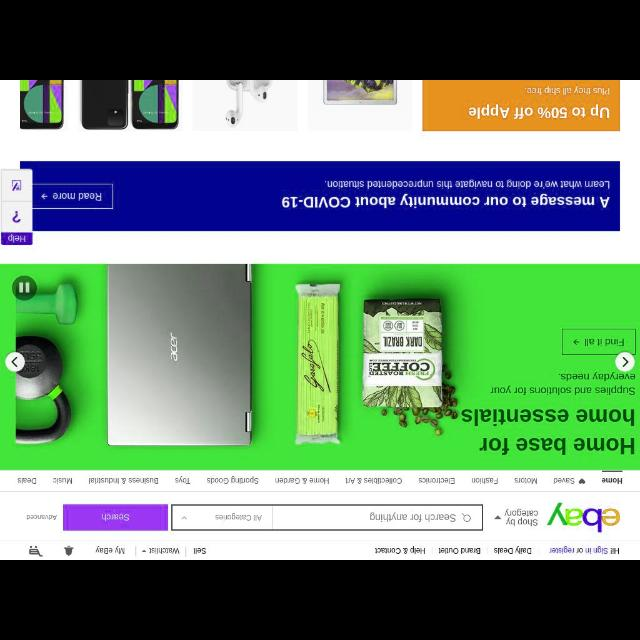backgroundimage: (1, 266, 639, 470)
button: (1, 170, 32, 202), (1, 202, 31, 232), (12, 274, 38, 302), (5, 351, 28, 373), (614, 352, 636, 372)
icon: (24, 542, 46, 558), (10, 208, 24, 225), (62, 544, 76, 558), (10, 178, 24, 192), (458, 512, 474, 524), (20, 280, 30, 294), (620, 355, 630, 369), (12, 356, 21, 368), (40, 190, 48, 202), (578, 476, 586, 486), (492, 514, 503, 520), (180, 515, 188, 521), (141, 548, 147, 554)
image: (306, 80, 409, 132), (78, 81, 184, 130), (194, 82, 296, 130), (547, 500, 621, 534), (20, 81, 68, 131)
input: (272, 504, 482, 530)
multitab: (1, 471, 639, 492)
spinner: (172, 505, 272, 529), (492, 506, 540, 530), (136, 542, 186, 558)
text: (280, 175, 610, 212), (462, 407, 636, 458), (488, 372, 636, 398), (465, 103, 613, 121), (367, 511, 459, 524), (548, 545, 620, 557), (524, 86, 610, 95), (86, 476, 160, 486), (503, 507, 539, 527), (373, 545, 427, 557), (212, 512, 264, 524), (52, 190, 104, 202), (344, 476, 404, 486), (273, 476, 331, 486), (204, 476, 260, 486), (437, 544, 481, 556), (493, 544, 535, 556), (95, 544, 127, 558), (416, 476, 456, 486), (101, 511, 131, 524), (22, 512, 58, 522), (599, 475, 627, 487), (550, 475, 576, 487), (50, 474, 76, 486), (470, 476, 500, 486), (512, 475, 540, 485), (16, 476, 38, 486), (7, 233, 26, 244), (148, 548, 182, 554), (190, 546, 208, 556), (174, 476, 192, 484)
textbutton: (62, 506, 168, 530), (33, 184, 113, 208), (562, 330, 636, 354)
toolbar: (1, 492, 639, 560)
